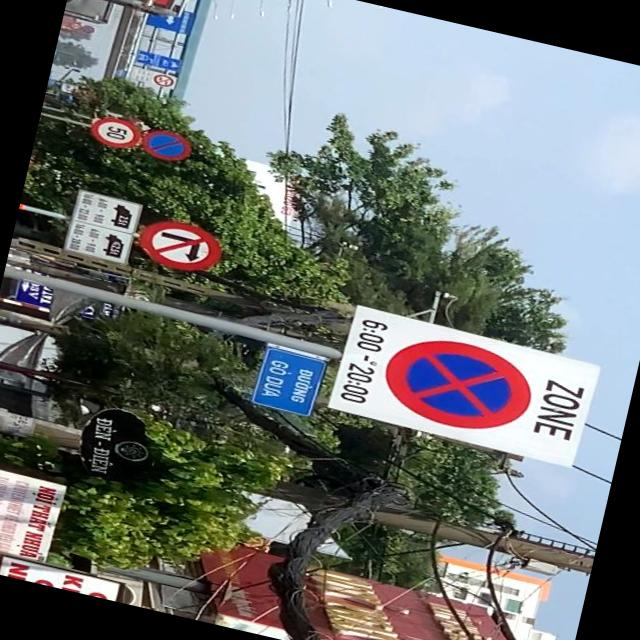P-123b: (134, 215, 225, 276)
P-127: (87, 112, 143, 150)
P-130: (373, 328, 537, 440)
P-131a: (139, 125, 194, 165)
